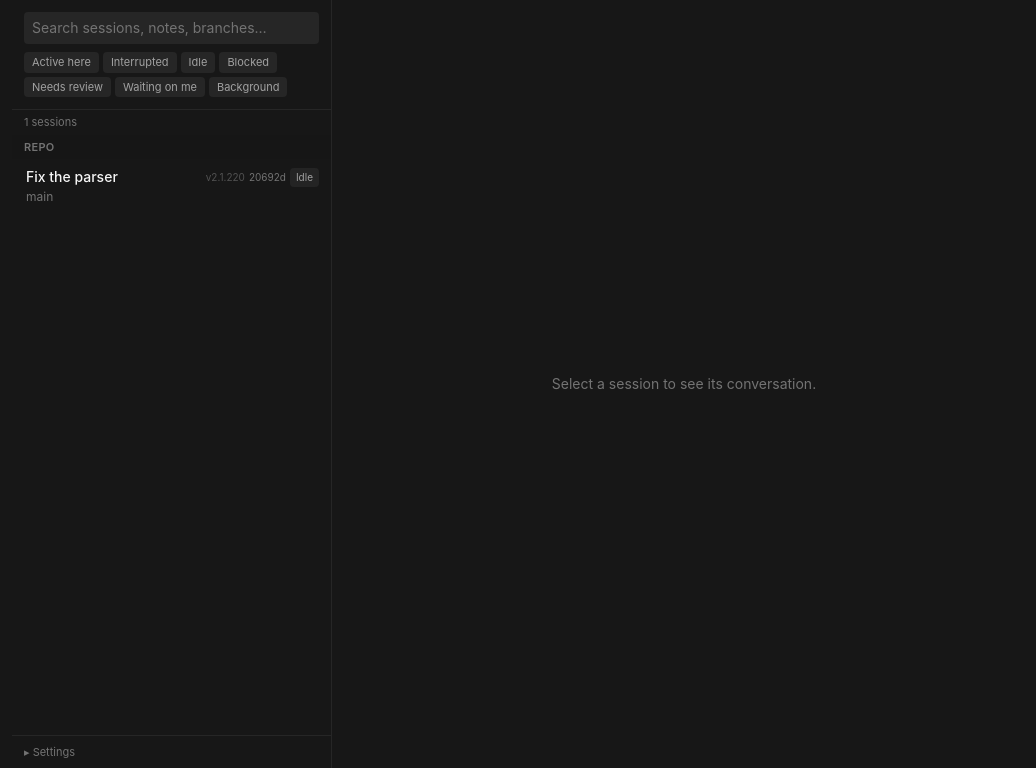
Test: App › shows the conversation pane once a session is selected
Click the text "Fix the parser" at (72, 177), box [26,167,118,187]
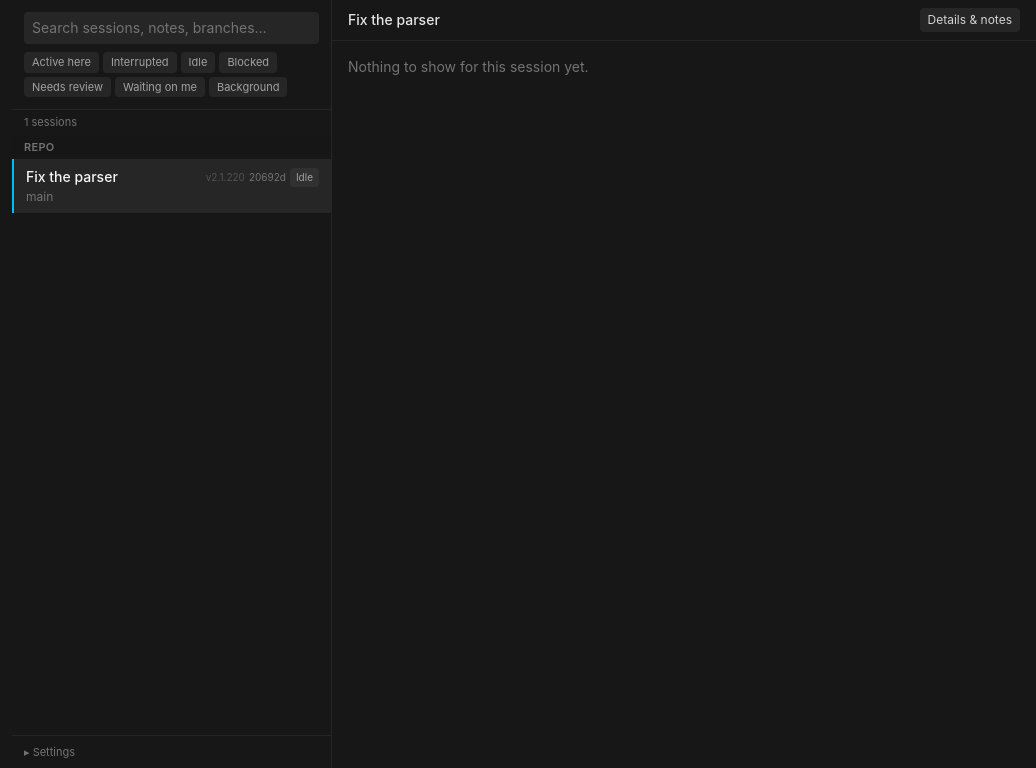
Expected: the element with test id "conversation-pane" is shown, [348,58,589,75]
